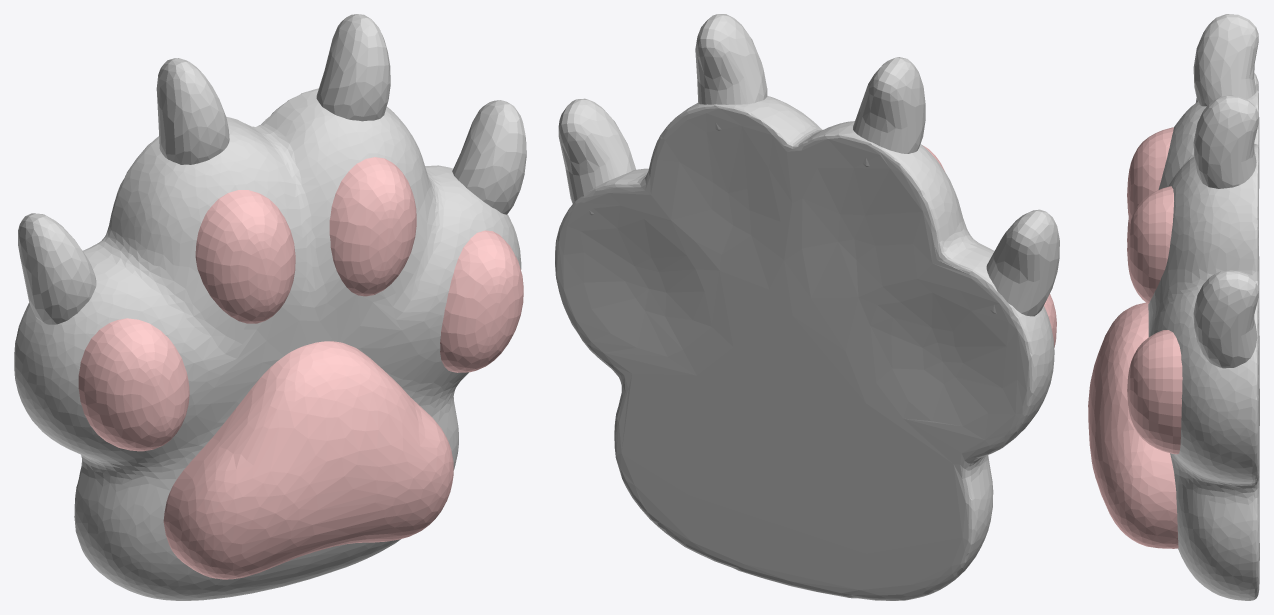
Rendered from cat_paw_nail.glb.
3 views of the same model, side by side, from view 1: azimuth 30°, elevation 25°; view 2: azimuth 150°, elevation 25°; view 3: azimuth 270°, elevation 25° (orthographic). The views are drawn at different scales.
Parts seen in each view (by area): view 1: Circle.202, Plane.001, Plane.297, Circle.001; view 2: Circle.202, Circle.001; view 3: Circle.202, Circle.001, Plane.001, Plane.297.
Part boxes in pixels (left/top/right/bottom): Circle.202: left=14, top=88, right=521, bottom=600; Plane.001: left=163, top=341, right=453, bottom=579; Plane.297: left=78, top=157, right=523, bottom=451; Circle.001: left=18, top=14, right=526, bottom=324; Circle.202: left=555, top=96, right=1054, bottom=600; Circle.001: left=558, top=14, right=1059, bottom=316; Circle.202: left=1148, top=89, right=1259, bottom=600; Circle.001: left=1193, top=14, right=1258, bottom=368; Plane.001: left=1088, top=302, right=1178, bottom=548; Plane.297: left=1127, top=127, right=1182, bottom=454.
Bounding box in the file's own units: 15.52 × 16.4 × 5.04.
